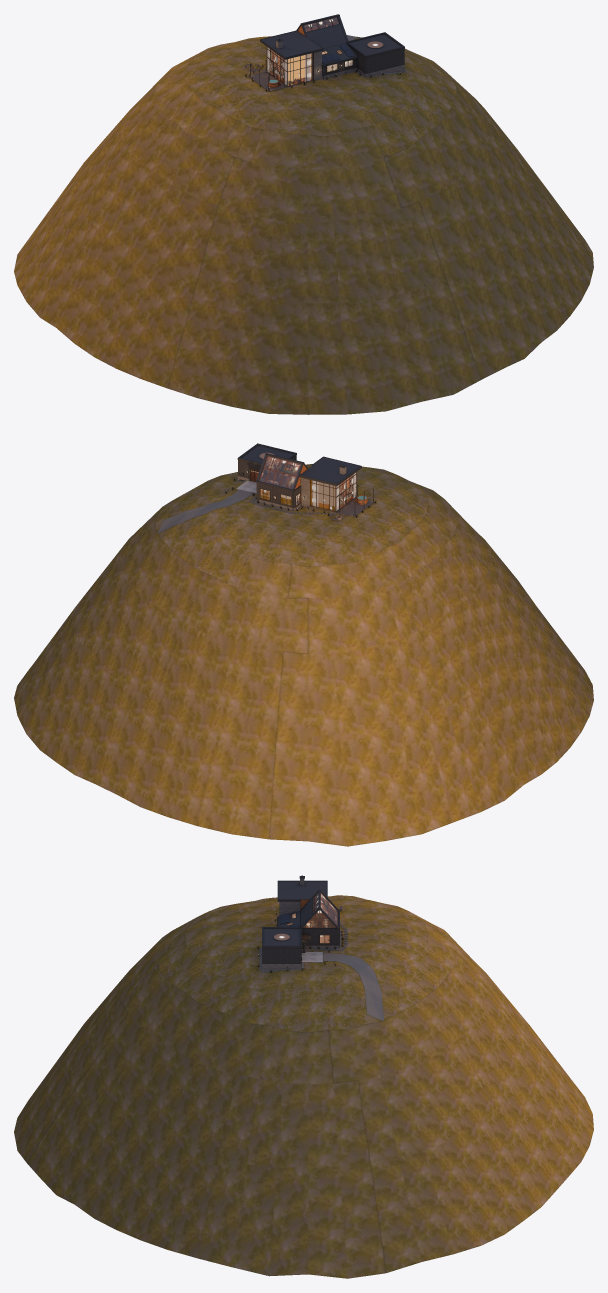
Rendered from star-cabin.glb.
3 renders of one model, top to bottom at view 1: azimuth 30°, elevation 25°; view 2: azimuth 150°, elevation 25°; view 3: azimuth 270°, elevation 25°, orthographic.
Visible parts, largest first — view 1: StarCabin_Ground, StarCabin_House; view 2: StarCabin_Ground, StarCabin_House; view 3: StarCabin_Ground, StarCabin_House.
Boxes of the visible parts, x1,y1,x2,y2 form: StarCabin_Ground: (14, 36, 593, 414); StarCabin_House: (244, 14, 406, 91); StarCabin_Ground: (14, 464, 593, 846); StarCabin_House: (157, 443, 375, 534); StarCabin_Ground: (14, 895, 593, 1278); StarCabin_House: (257, 875, 384, 1020).
Bounding box in the file's own units: 100 × 50.42 × 101.
2 materials, 2 textured.
